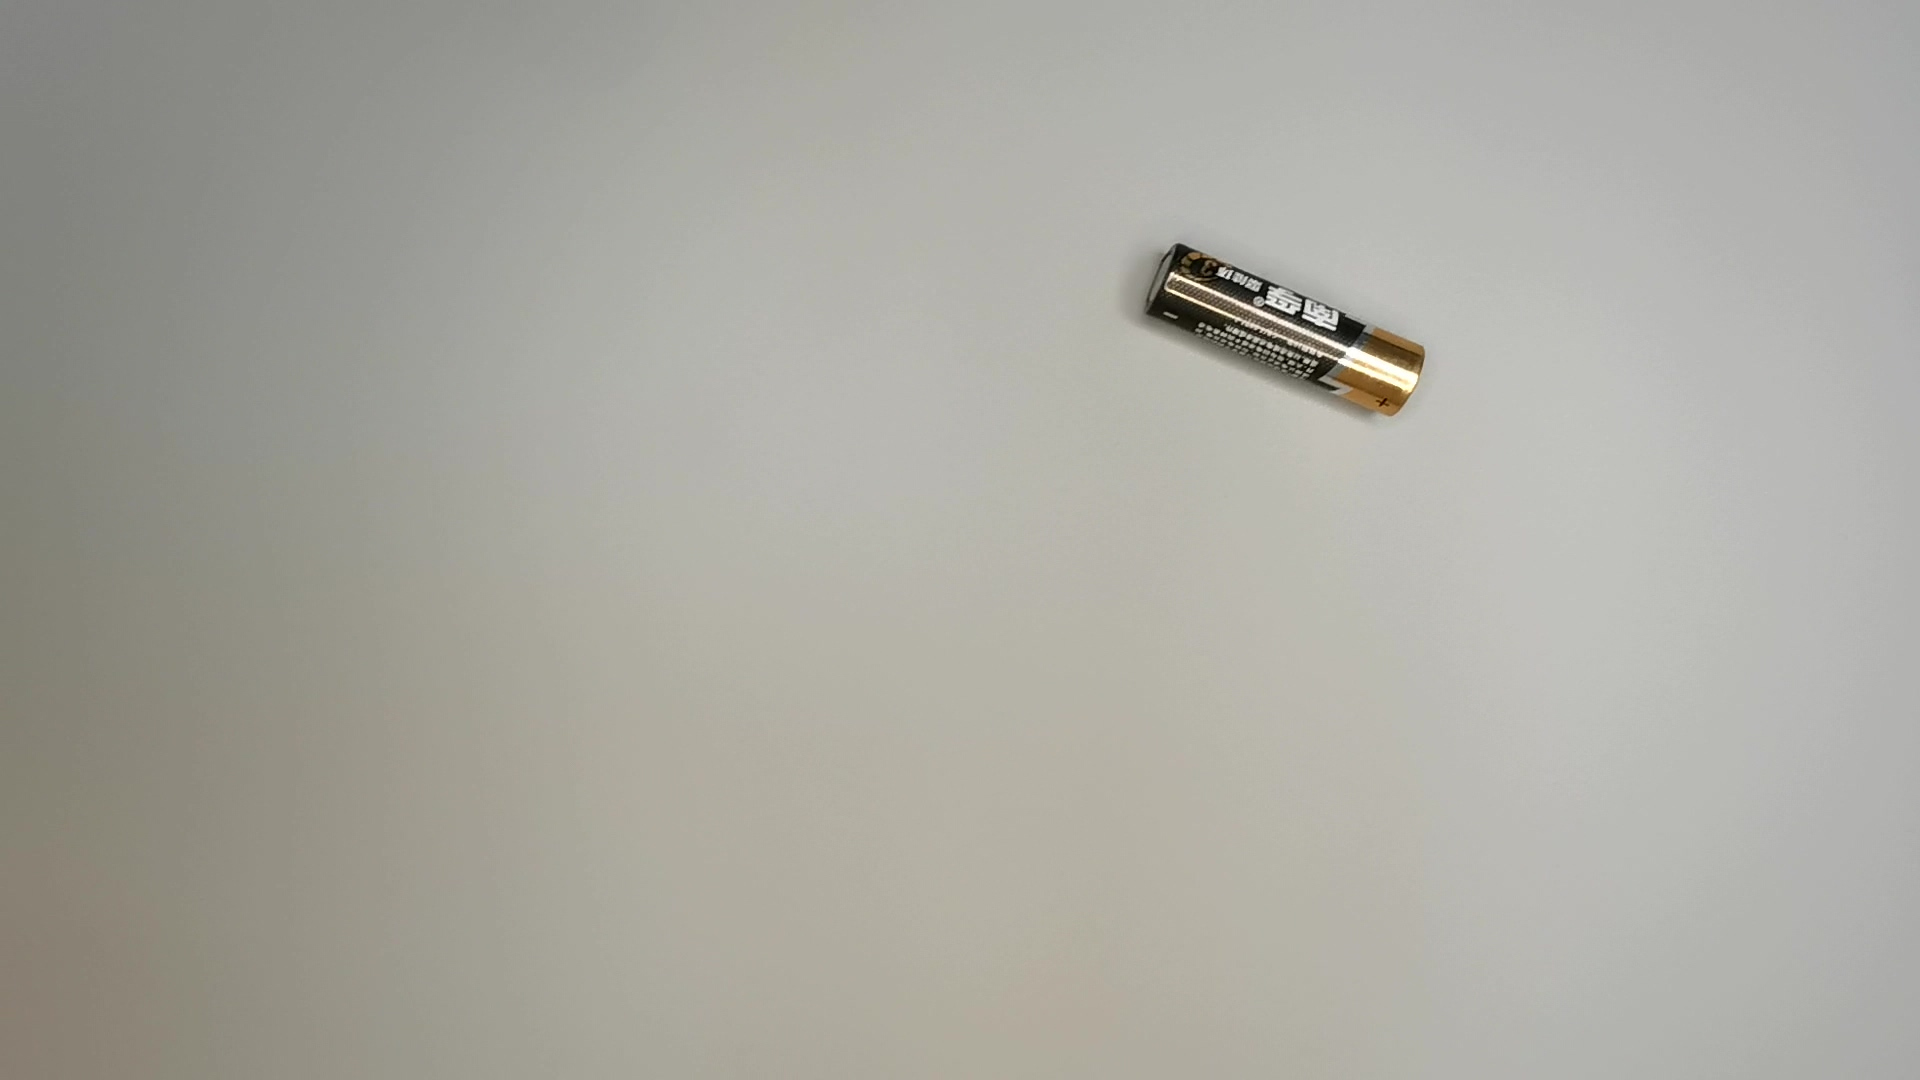battery: (1139, 237, 1433, 419)
